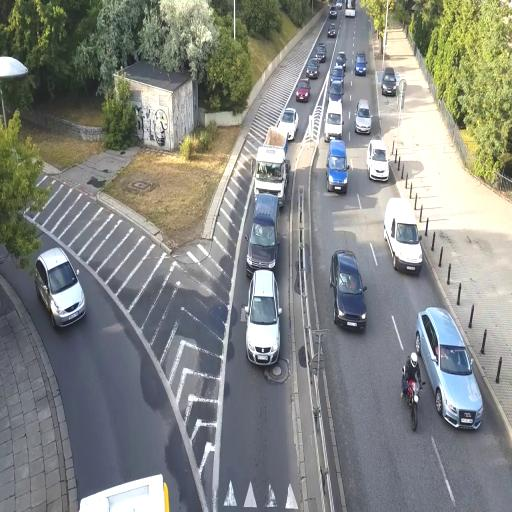vehicle: (414, 306, 484, 432), (35, 246, 86, 330), (244, 269, 282, 367), (383, 198, 424, 276), (331, 250, 367, 332), (246, 192, 278, 274), (254, 124, 288, 198), (326, 138, 349, 194), (368, 139, 388, 181), (276, 106, 298, 140), (354, 101, 372, 135), (381, 68, 398, 95), (296, 80, 310, 102), (353, 55, 367, 75), (306, 63, 319, 80), (315, 44, 327, 62)
